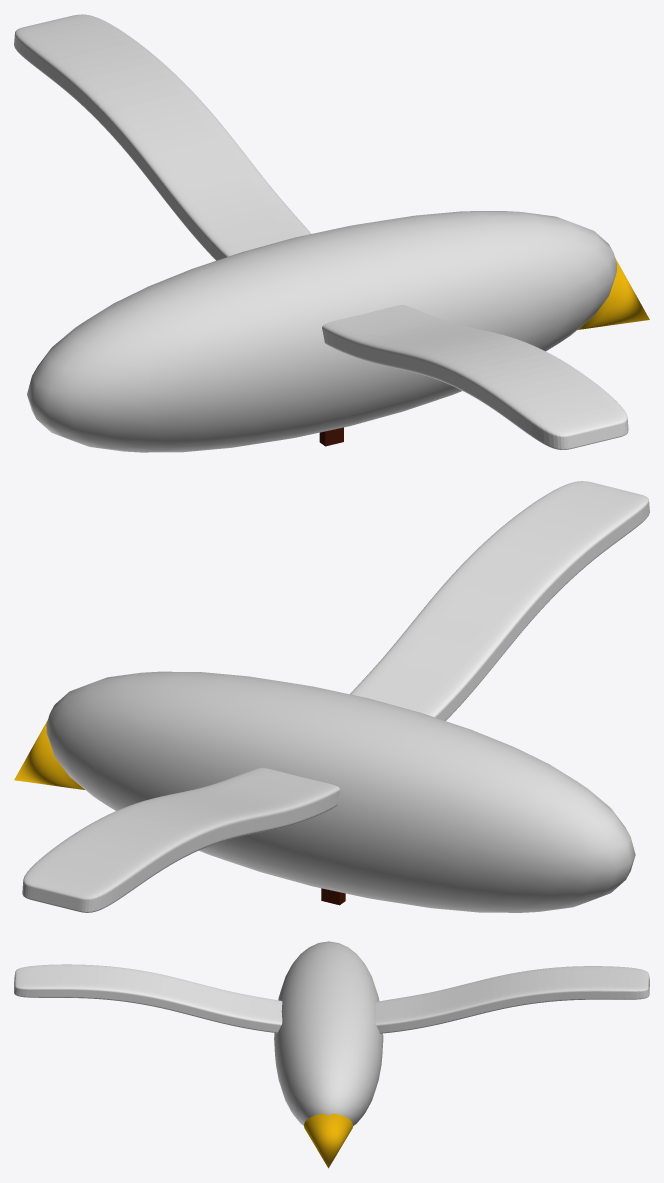
Rendered from bird.gltf.
3 views of the same model, one above another, from view 1: azimuth 30°, elevation 25°; view 2: azimuth 150°, elevation 25°; view 3: azimuth 270°, elevation 25° (orthographic). The views are drawn at different scales.
Parts seen in each view (by area): view 1: Cube, Cube.001, Cube.003, Cone; view 2: Cube, Cube.003, Cube.001, Cone; view 3: Cube, Cube.001, Cube.003, Cone.
Boxes of the visible parts, x1,y1,x2,y2 form: Cube: [27, 211, 616, 452]; Cube.001: [14, 14, 311, 260]; Cube.003: [322, 305, 628, 449]; Cone: [578, 258, 649, 329]; Cube: [46, 671, 635, 912]; Cube.003: [350, 481, 649, 720]; Cube.001: [22, 767, 339, 912]; Cone: [14, 720, 84, 789]; Cube: [274, 941, 383, 1126]; Cube.001: [375, 966, 649, 1033]; Cube.003: [14, 964, 282, 1033]; Cone: [304, 1113, 353, 1168].
Bounding box in the file's own units: 12.49 × 4.05 × 19.48.
